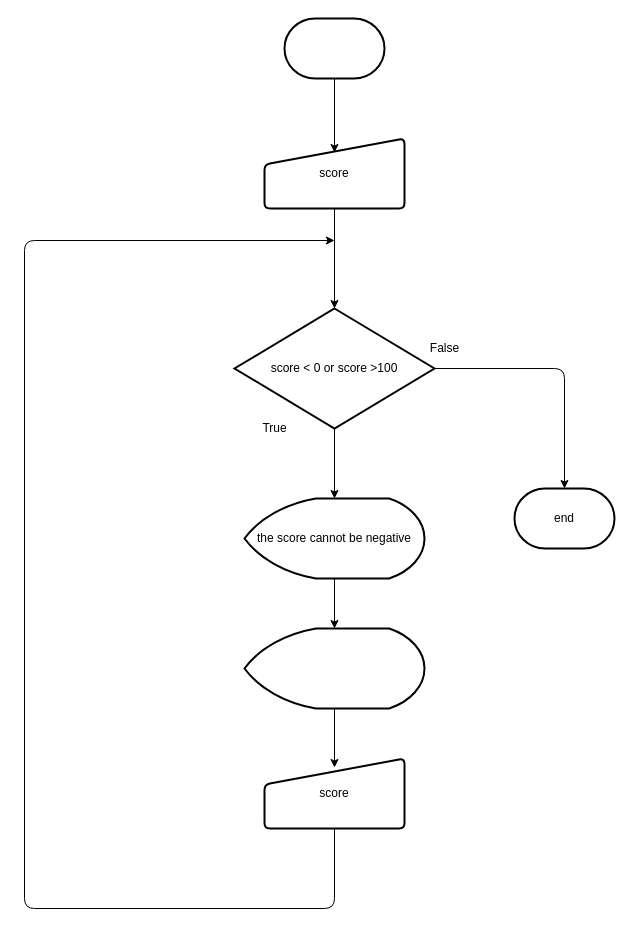
Image size: 633x934. Some labels were removed from this diagram. Here are the shapes that lost their labels. From the top down, the centre of each, then its label:
At point (334, 48): "start".
At point (334, 668): "or greater than 100.".
